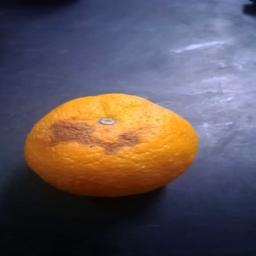Orange Semifresh: (22, 82, 205, 202)
